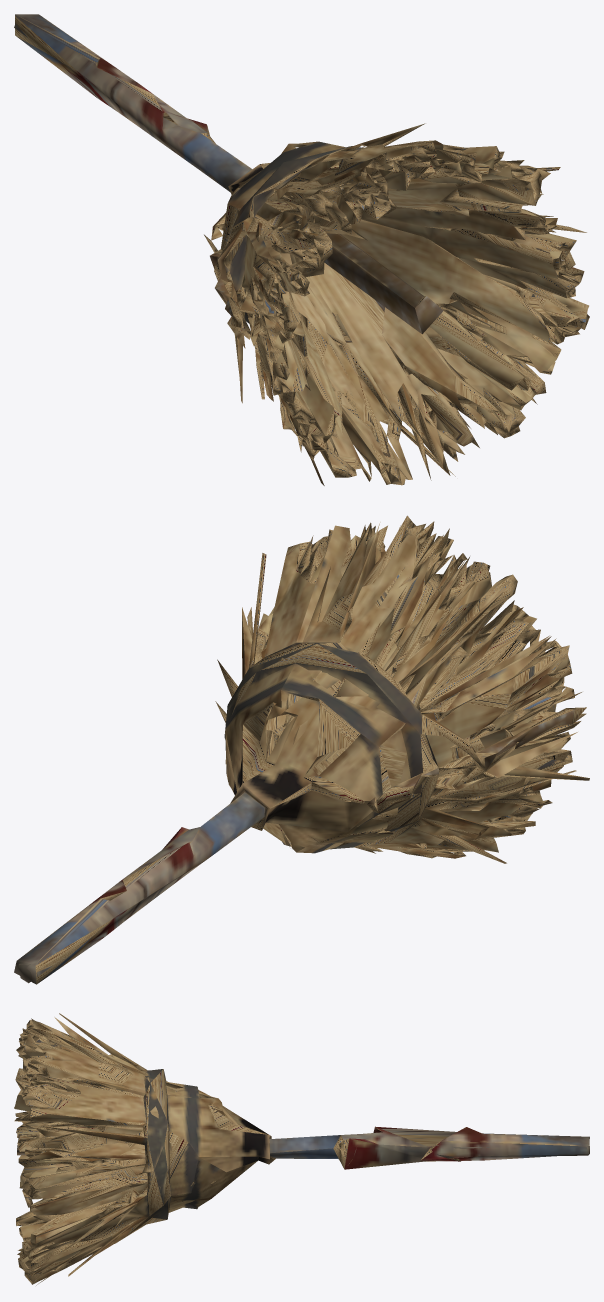
File: wasteland-broom.glb
3 views of the same model, one above another, from view 1: azimuth 30°, elevation 25°; view 2: azimuth 150°, elevation 25°; view 3: azimuth 270°, elevation 25° (orthographic). The views are drawn at different scales.
Parts seen in each view (by area): view 1: world; view 2: world; view 3: world.
Part boxes in pixels (x1,y1,x2,y2): world: (14, 14, 589, 485); world: (14, 515, 589, 984); world: (14, 1013, 589, 1285).
Bounding box in the file's own units: 0.3998 × 0.3797 × 0.8.
Materials: 1 (1 with a texture image).
